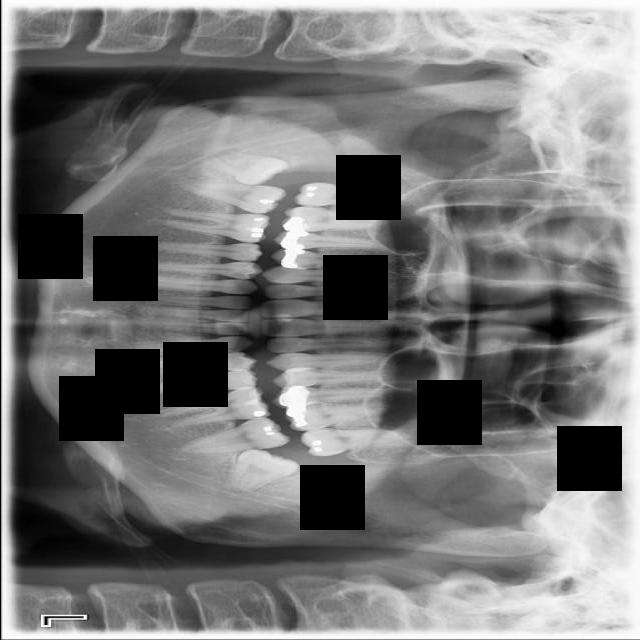52: (234, 402, 293, 462), (221, 379, 273, 430), (228, 205, 273, 249), (233, 182, 287, 217), (298, 425, 351, 459), (282, 398, 331, 434), (280, 204, 329, 233), (271, 384, 319, 410), (293, 182, 340, 207), (268, 247, 315, 270), (259, 317, 313, 337), (273, 229, 318, 250), (259, 300, 310, 318)
73: (54, 584, 68, 590)
BioHorizons Implant: (299, 428, 415, 457)
Biomet 3i Implant: (218, 432, 300, 500)
Blue Sky Bio Implant: (174, 414, 291, 458)
Caries: (292, 179, 399, 208)
Implant: (181, 180, 287, 215)
Keystone Dental Implant: (205, 145, 290, 192)
